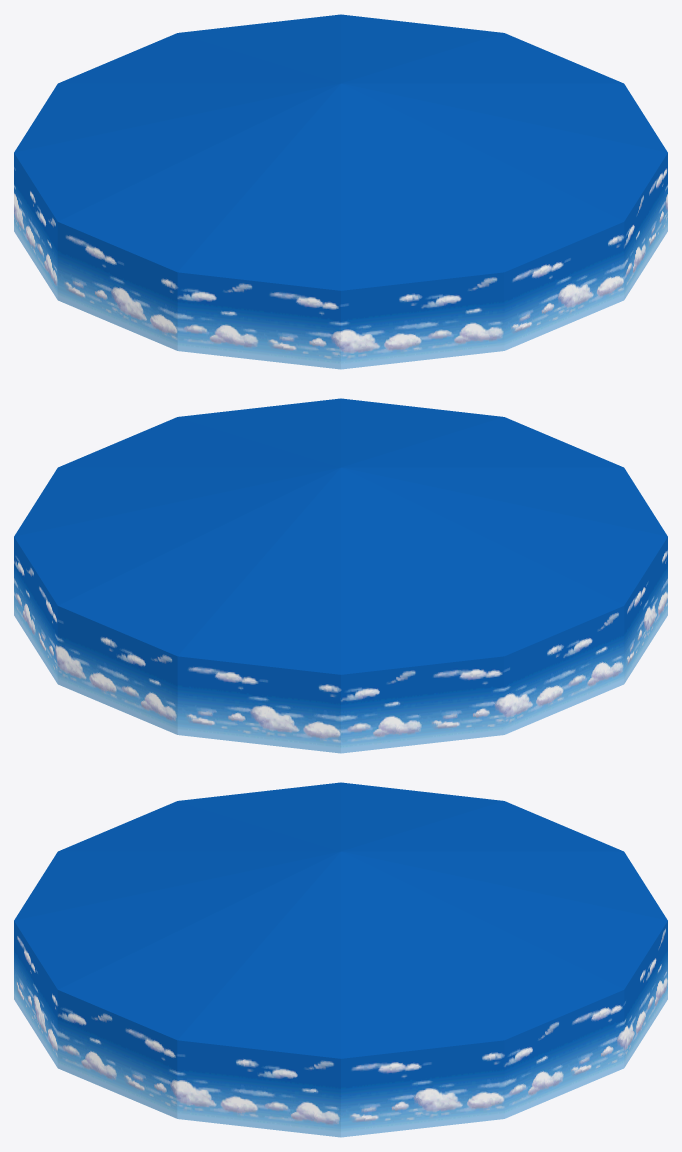
File: beach_course_V.glb
3 renders of one model, top to bottom at view 1: azimuth 30°, elevation 25°; view 2: azimuth 150°, elevation 25°; view 3: azimuth 270°, elevation 25°, orthographic.
Visible parts, largest first — view 1: beach_course_V; view 2: beach_course_V; view 3: beach_course_V.
Part boxes in pixels (x1,y1,x2,y2): beach_course_V: (14, 14, 667, 369); beach_course_V: (14, 398, 667, 753); beach_course_V: (14, 782, 667, 1137).
Bounding box in the file's own units: 779 × 194 × 779.
Materials: 1 (1 with a texture image).
